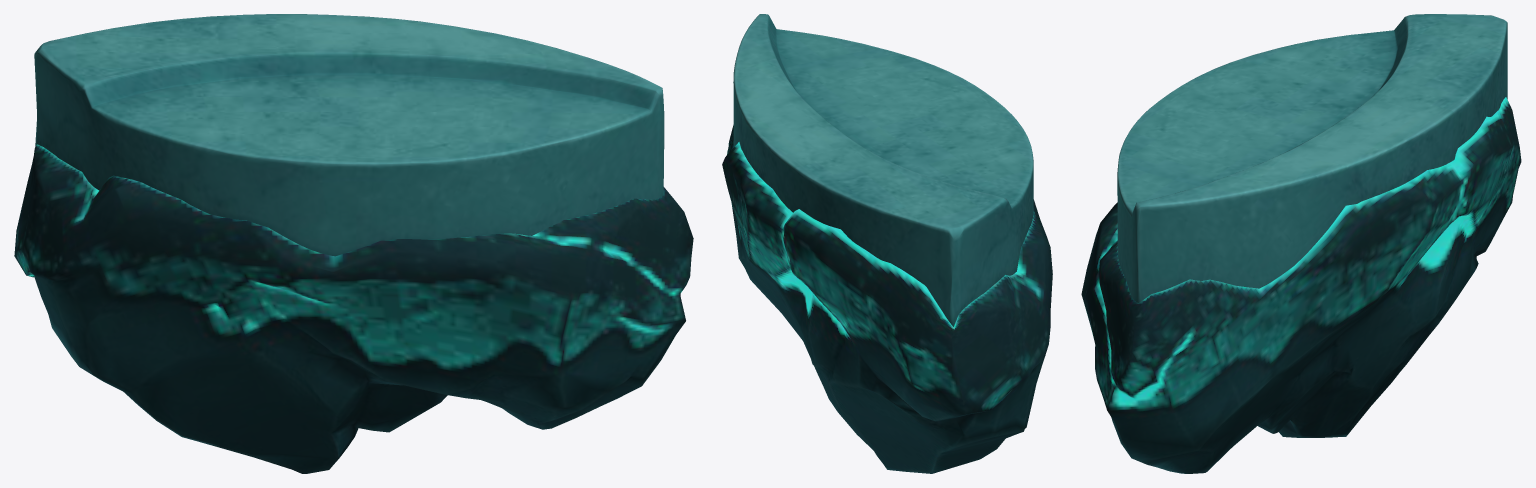
Rendered from sky_rock_02a2_soma.glb.
3 views of the same model, side by side, from view 1: azimuth 30°, elevation 25°; view 2: azimuth 150°, elevation 25°; view 3: azimuth 270°, elevation 25° (orthographic). The views are drawn at different scales.
Visible parts, largest first — view 1: rock_02a2; view 2: rock_02a2; view 3: rock_02a2.
Boxes of the visible parts, x1,y1,x2,y2 form: rock_02a2: (14, 14, 693, 473); rock_02a2: (722, 14, 1052, 473); rock_02a2: (1081, 14, 1521, 473).
Size of the model in its own units: 34.4 by 25.49 by 28.99.
Materials: 1 (1 with a texture image).
